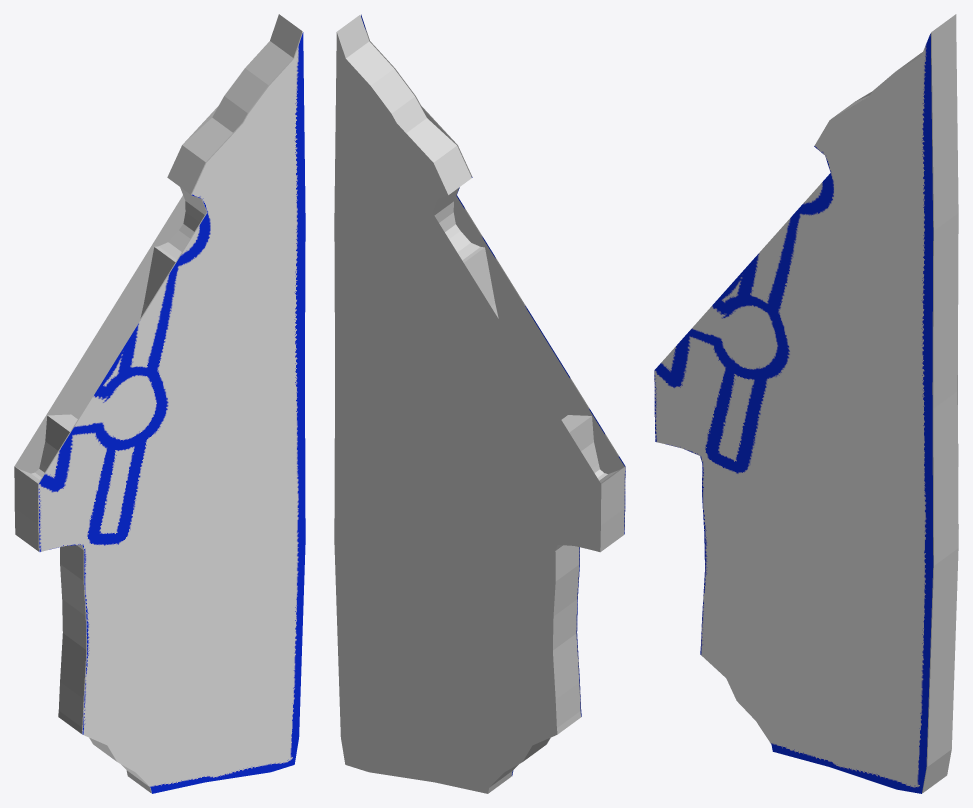
3 renders of one model, left to right at view 1: azimuth 30°, elevation 25°; view 2: azimuth 150°, elevation 25°; view 3: azimuth 330°, elevation 25°, orthographic. The views are drawn at different scales.
Visible parts, largest first — view 1: Out_3_1, Out_3_0; view 2: Out_3_0, Out_3_1; view 3: Out_3_1, Out_3_0.
Part boxes in pixels (x1,y1,x2,y2): Out_3_1: (38, 32, 305, 793); Out_3_0: (14, 14, 302, 793); Out_3_0: (334, 15, 624, 793); Out_3_1: (361, 14, 625, 775); Out_3_1: (654, 33, 933, 793); Out_3_0: (831, 14, 958, 793).
Size of the model in its own units: 3.27 by 8.57 by 0.515.
Materials: 2 (1 with a texture image).
